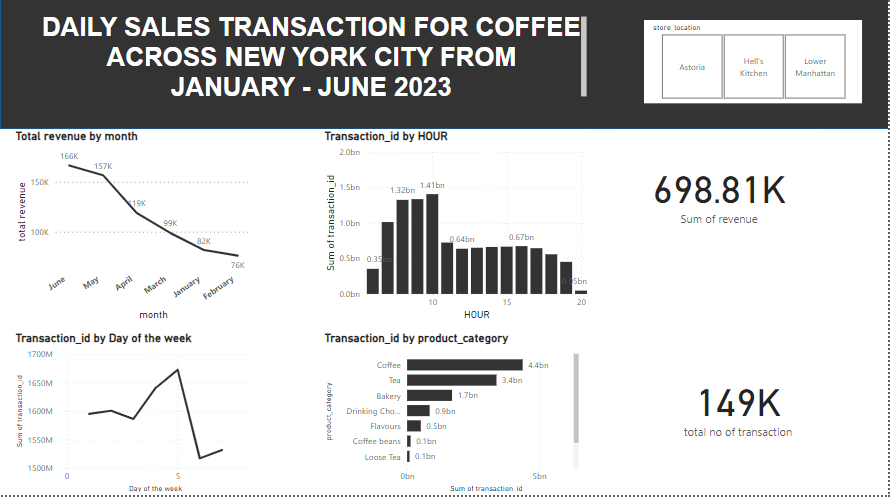

The page's visual inventory and layout, read from the dashboard file:
{"tool":"powerbi","page":{"name":"Page 1","canvas":[1280,720],"ordinal":0},"visuals":[{"type":"lineChart","title":"Total revenue by month","fields":{"Y":["coffee shop sales.total revenue"],"Category":["coffee shop sales.month"]},"box":[16.8,193.2,349.4,280.5],"z":0},{"type":"shape","box":[0,0,1280,193.2],"z":1000},{"type":"lineChart","title":"Transaction_id by Day of the week","fields":{"Category":["coffee shop sales.Day of the week"],"Y":["Sum(coffee shop sales.transaction_id)"]},"box":[16.8,483.8,349.4,236.9],"z":2000},{"type":"columnChart","title":"Transaction_id by HOUR","fields":{"Category":["coffee shop sales.HOUR"],"Y":["Sum(coffee shop sales.transaction_id)"]},"box":[461.9,193.2,388,280.5],"z":3000},{"type":"barChart","title":"Transaction_id by product_category","fields":{"Y":["Sum(coffee shop sales.transaction_id)"],"Category":["coffee shop sales.product_category"]},"box":[461.9,483.8,376.3,236.9],"z":4000},{"type":"card","fields":{"Values":["Sum(coffee shop sales.revenue)"]},"box":[888.6,193.2,294,183.1],"z":5000},{"type":"card","fields":{"Values":["coffee shop sales.total no of transaction"]},"box":[915.5,500.6,294,178.1],"z":6000},{"type":"slicer","fields":{"Values":["coffee shop sales.store_location"]},"box":[888.6,43.7,361.2,112.5],"z":6001},{"type":"textbox","box":[35.3,26.9,744.1,129.3],"z":6002}]}

Visuals, with their boxes in screenshot pixels (x1, y1, x2, y2), scaled from the page's 1280x720 canvas onto the 891x498 screenshot:
"Total revenue by month" lineChart: 12, 134, 255, 328
shape: 0, 0, 890, 134
"Transaction_id by Day of the week" lineChart: 12, 335, 255, 497
"Transaction_id by HOUR" columnChart: 322, 134, 592, 328
"Transaction_id by product_category" barChart: 322, 335, 583, 497
card - Sum(coffee shop sales.revenue): 619, 134, 823, 260
card - coffee shop sales.total no of transaction: 637, 346, 842, 469
slicer - coffee shop sales.store_location: 619, 30, 870, 108
textbox: 25, 19, 543, 108
